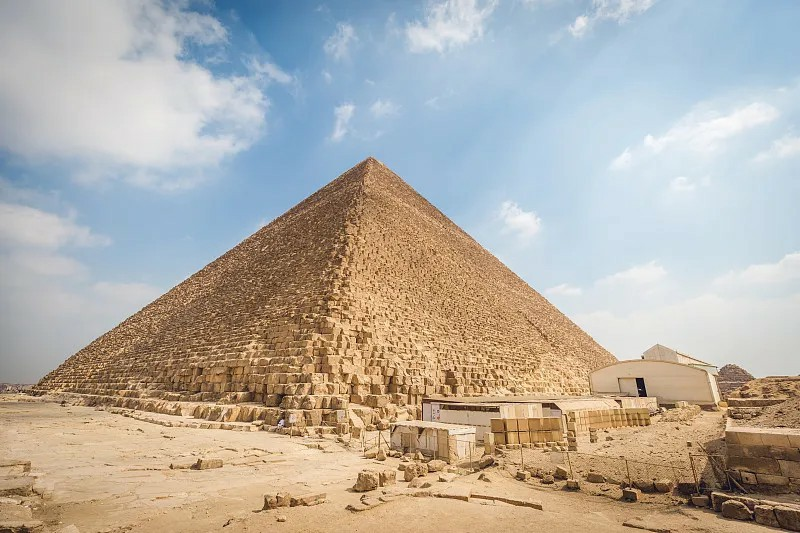Pyramid: (33, 156, 618, 439)
